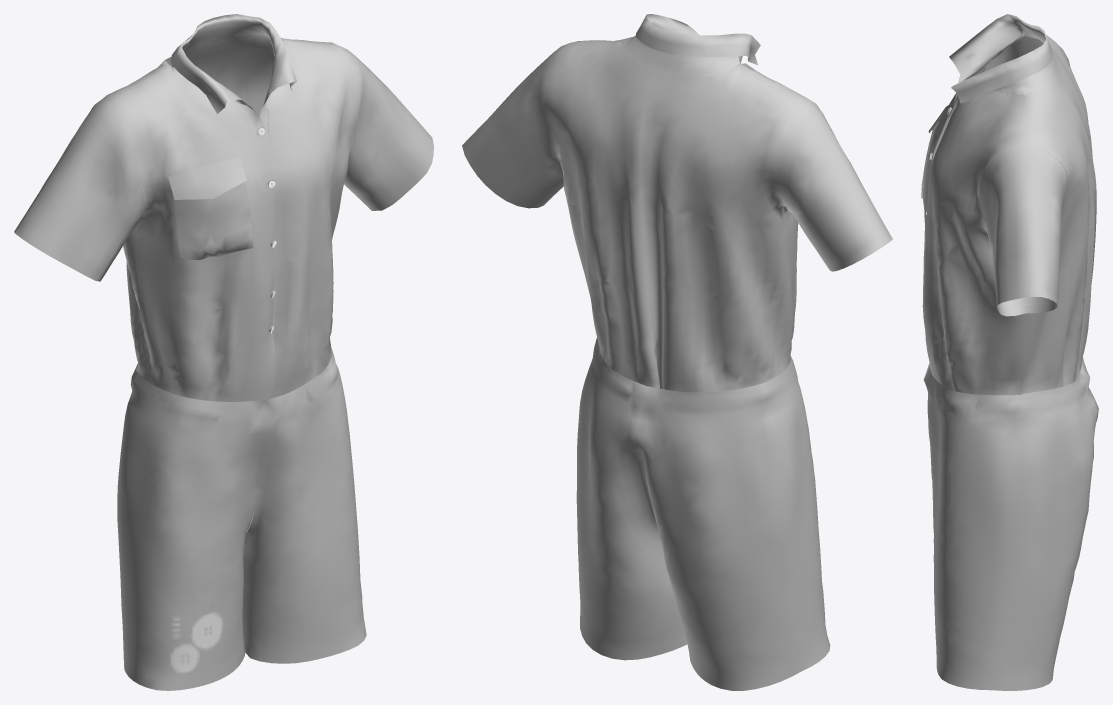
File: halfshirtDraco.glb
3 renders of one model, left to right at view 1: azimuth 30°, elevation 25°; view 2: azimuth 150°, elevation 25°; view 3: azimuth 270°, elevation 25°, orthographic. The views are drawn at different scales.
Visible parts, largest first — view 1: bottom (×2), object 6, object 5, object 25, object 23, belt (×2), object 29, object 28, object 10, object 26, pocketflap, object 7 (+1 smaller); view 2: bottom (×3), object 26, object 10, object 25, object 23, belt (×2), object 28, object 6, sidestrip (×2), object 27, object 3; view 3: bottom (×2), object 5, object 10, object 23, object 28, belt (×3), sidestrip, object 26, object 6, object 25, object 3, object 2 (+1 smaller).
Part boxes in pixels (x1,y1,x2,y2): bottom (×2): (118,372,366,690); object 6: (108,67,269,401); object 5: (268,42,359,397); object 25: (19,102,146,273); object 23: (344,50,428,205); belt (×2): (133,347,339,425); object 29: (173,181,253,259); object 28: (170,14,296,113); object 10: (201,37,343,134); object 26: (91,48,208,383); pocketflap: (168,157,246,199); object 7: (245,105,275,399); bottom (×3): (576,361,830,690); object 26: (650,63,803,392); object 10: (544,40,664,388); object 25: (771,101,887,263); object 23: (467,47,563,202); belt (×2): (592,338,767,416); object 28: (632,14,760,64); object 6: (746,63,812,371); sidestrip (×2): (462,140,892,271); object 27: (665,60,739,77); object 3: (620,36,667,72); bottom (×2): (927,389,1098,690); object 5: (922,93,1023,395); object 10: (1010,71,1096,395); object 23: (980,145,1067,307); object 28: (949,14,1053,103); belt (×3): (923,363,1090,419); sidestrip: (996,287,1058,316); object 26: (1017,35,1092,366); object 6: (922,67,990,245); object 25: (984,36,1043,94); object 3: (1023,61,1058,94); object 2: (958,35,1023,83).
Size of the model in its own units: 740 by 1077 by 282.
31 materials, 31 textured.
